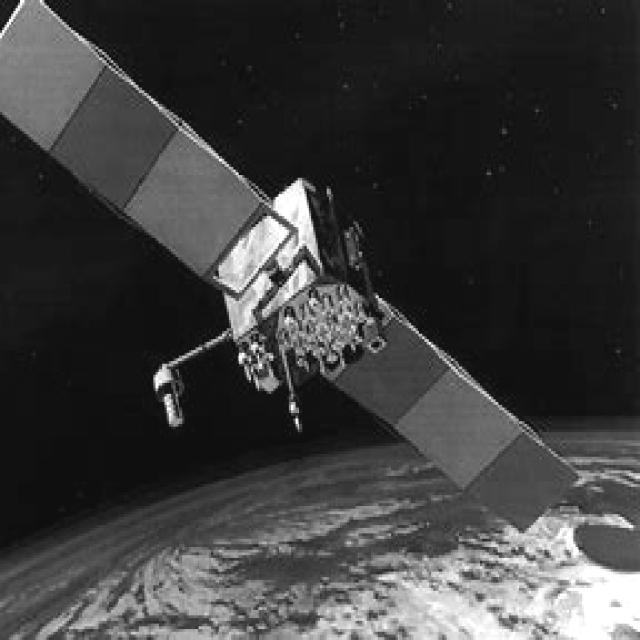satellite: (4, 0, 586, 536)
